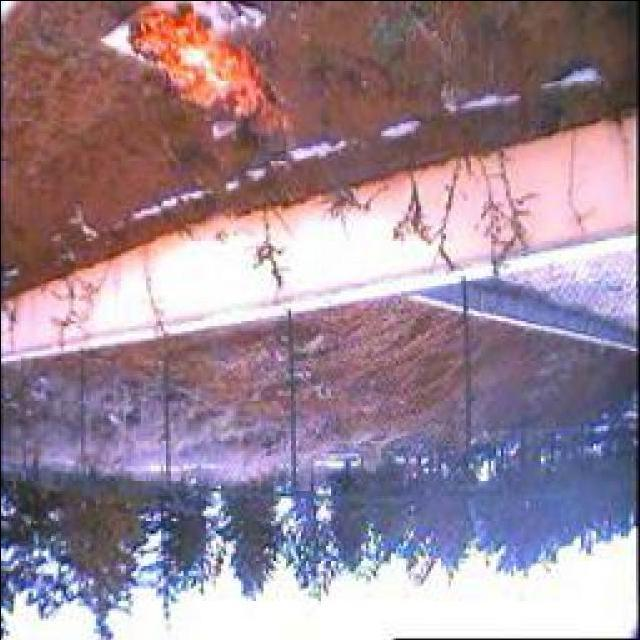Fire: (126, 3, 296, 148)
